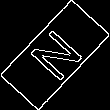N_SE: (22, 23, 88, 87)
